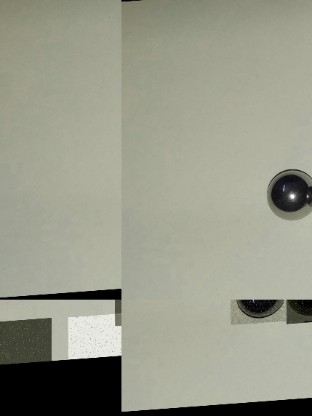ironball: (266, 166, 310, 228), (230, 299, 286, 328), (285, 299, 311, 327)
